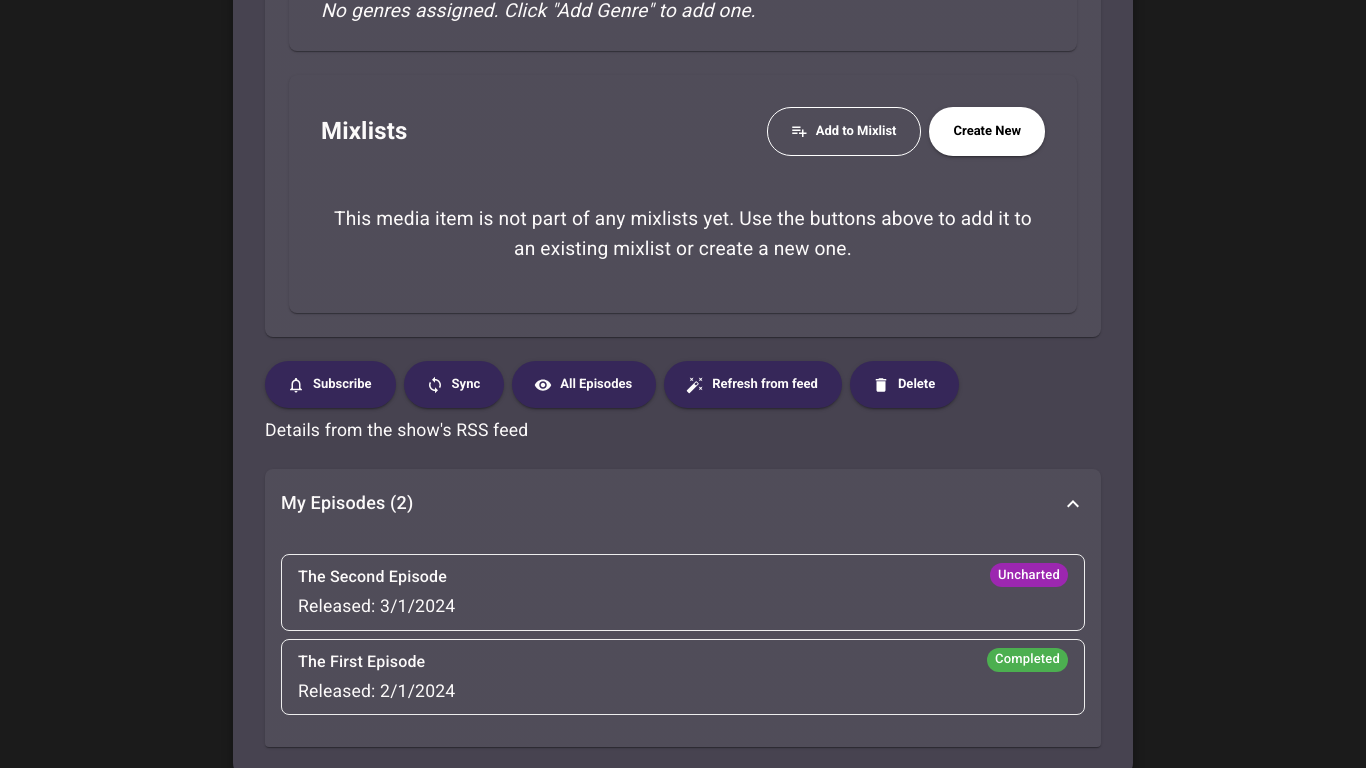
Test: PodcastSeriesProfile › shows the result body's message when a sync fails
This screenshot has width=1366, height=768.
(page scrolled)
Click the button "Sync". click: coordinates (454, 385)
box: [404, 361, 504, 408]
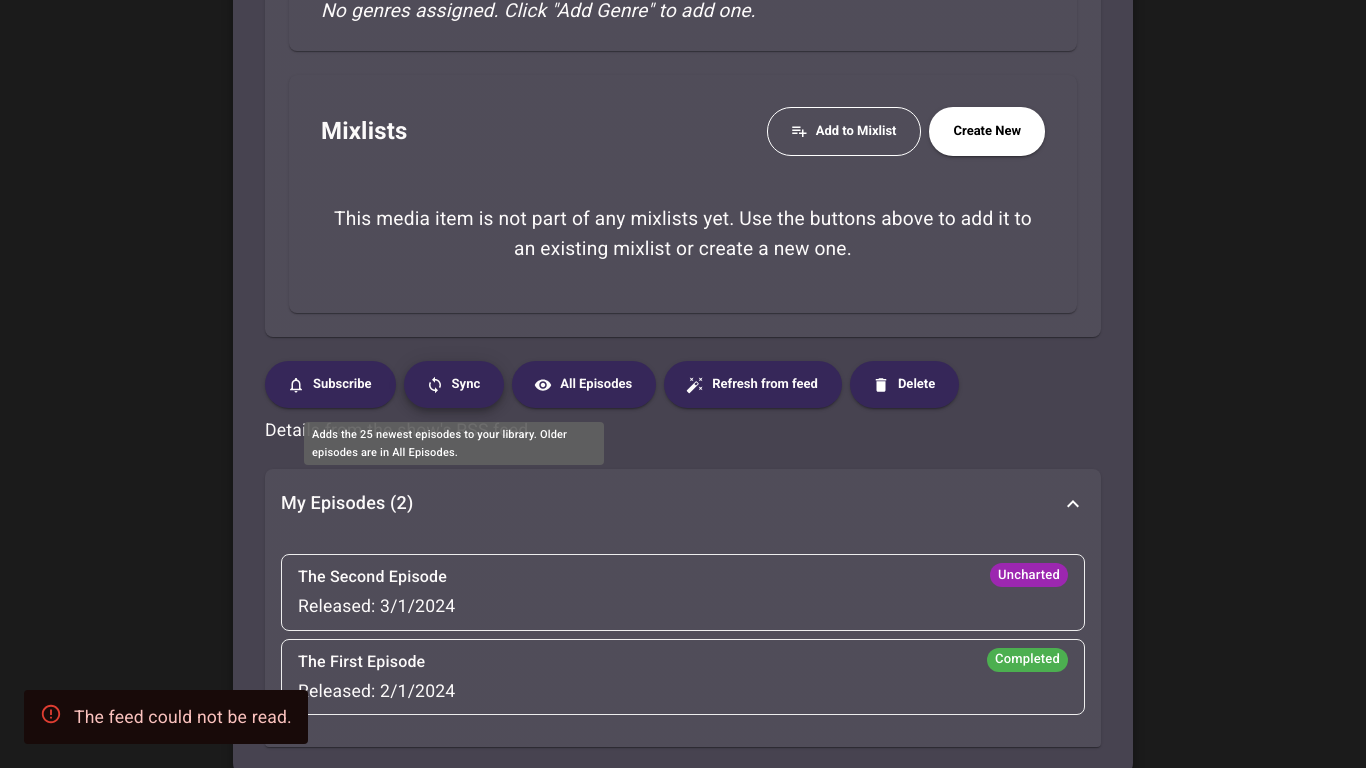
Expected: the text "The feed could not be read." is shown, [74, 707, 292, 727]
